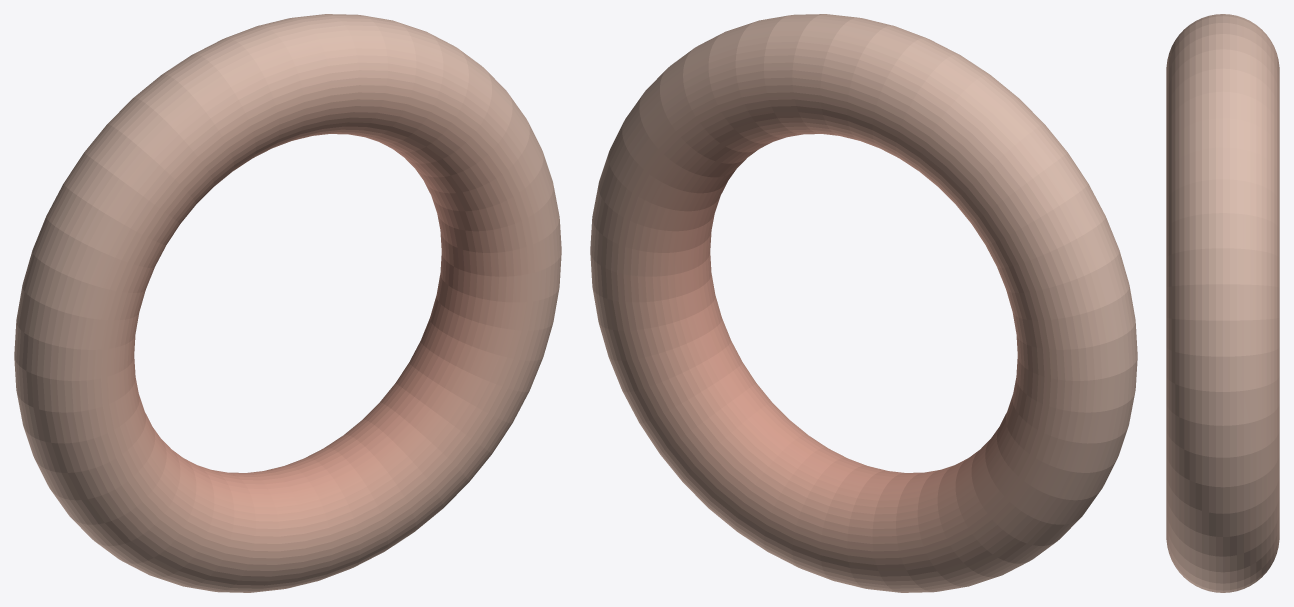
3 views of the same model, side by side, from view 1: azimuth 30°, elevation 25°; view 2: azimuth 150°, elevation 25°; view 3: azimuth 270°, elevation 25° (orthographic). The views are drawn at different scales.
Visible parts, largest first — view 1: world; view 2: world; view 3: world.
Boxes of the visible parts, left/top/right/bottom form: world: left=14, top=14, right=561, bottom=592; world: left=590, top=14, right=1137, bottom=592; world: left=1166, top=14, right=1279, bottom=592.
Bounding box in the file's own units: 30.67 × 30.61 × 5.99.
